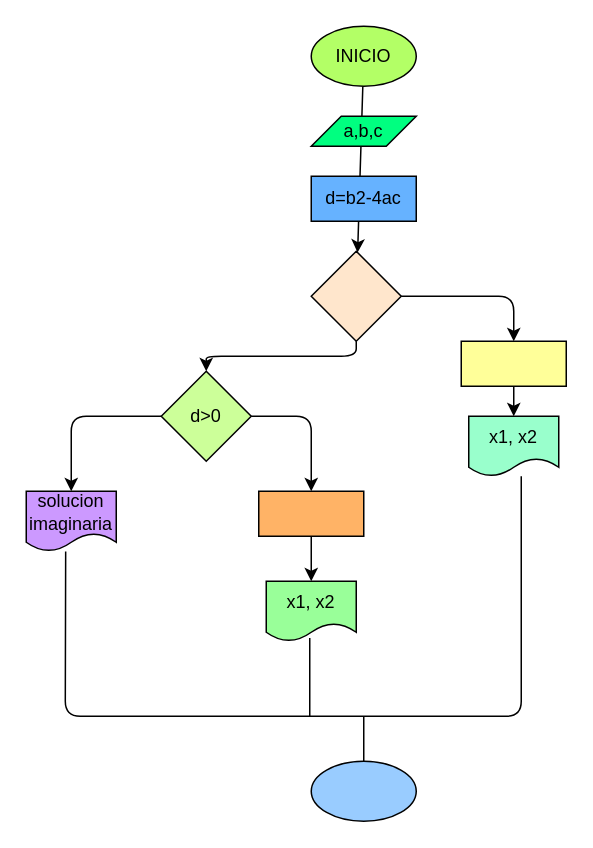
Image size: 593x848. Some labels were removed from this diagram. Here are the shapes that lost their labels. From the top down, the centre of each, then its label:
At [355,295]: "d=0".
At [513,363]: "x1=b/2a x2=x1".
At [310,513]: "x1=b+✓d/2a x2=b+✓d/2a".
At [363,790]: "FINAL".
